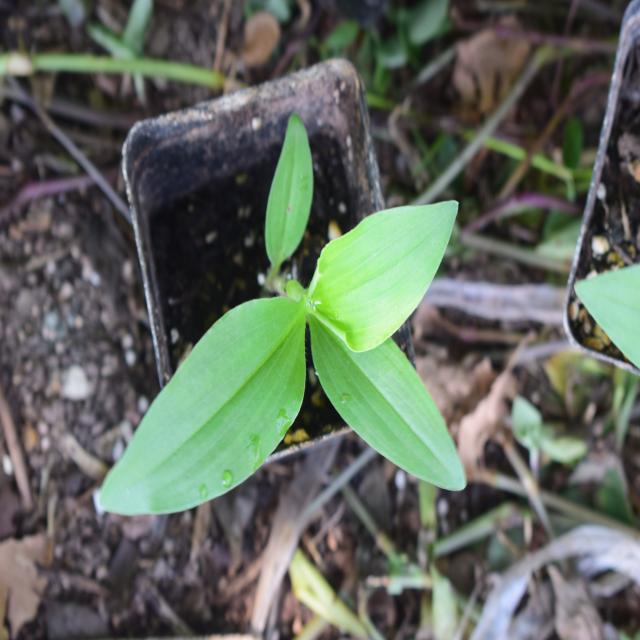Common Dayflower: (89, 176, 485, 518)
